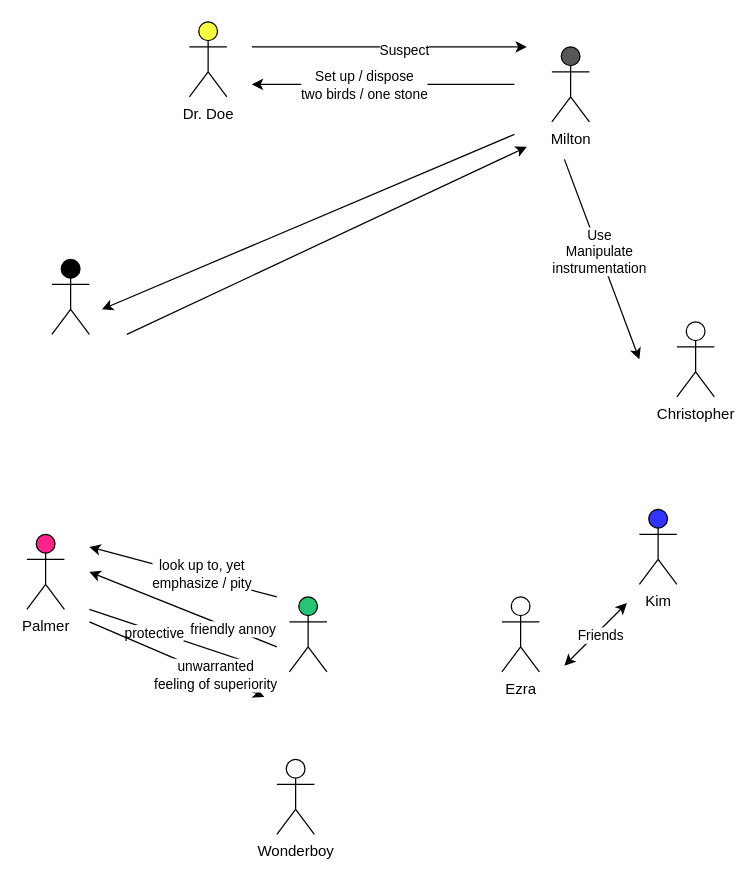
Some shapes in this 755 by 883 pixel diagram are drawn without their labels. The shapes that lost their labels are listed below. From the top down, each one's centre as x and y in pixels, then its label:
At (x=70, y=296): "Mara".
At (x=307, y=634): "Jenen".
